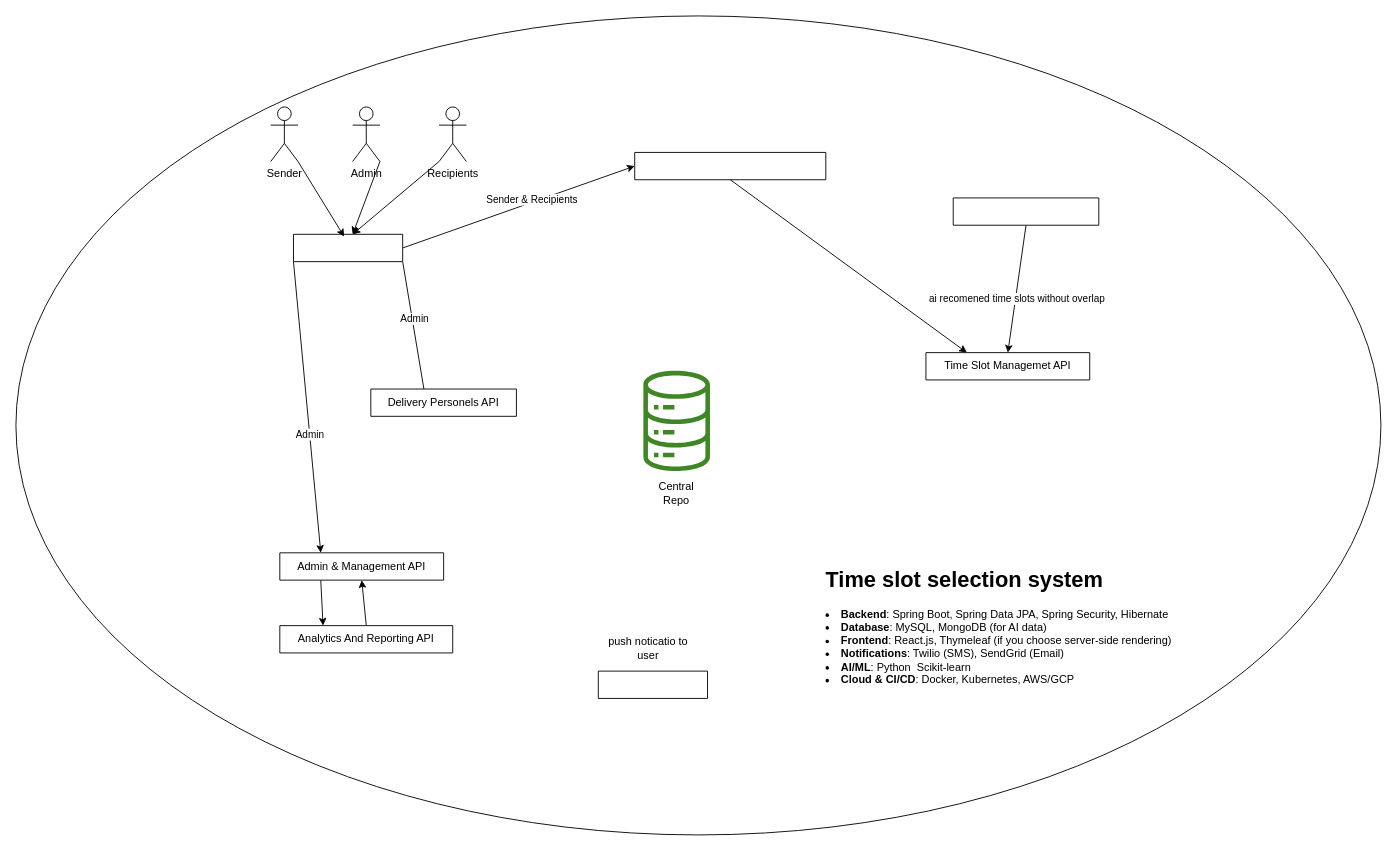
Image size: 1397x851. Some labels were removed from this diagram. The centre of each missing label's shape, as x and y in pixels:
"AI recomendation API" belongs at (x=1025, y=211).
"Consignment Management API" belongs at (x=730, y=166).
"Notification API" belongs at (x=652, y=684).
"User Auth API" belongs at (x=348, y=247).
